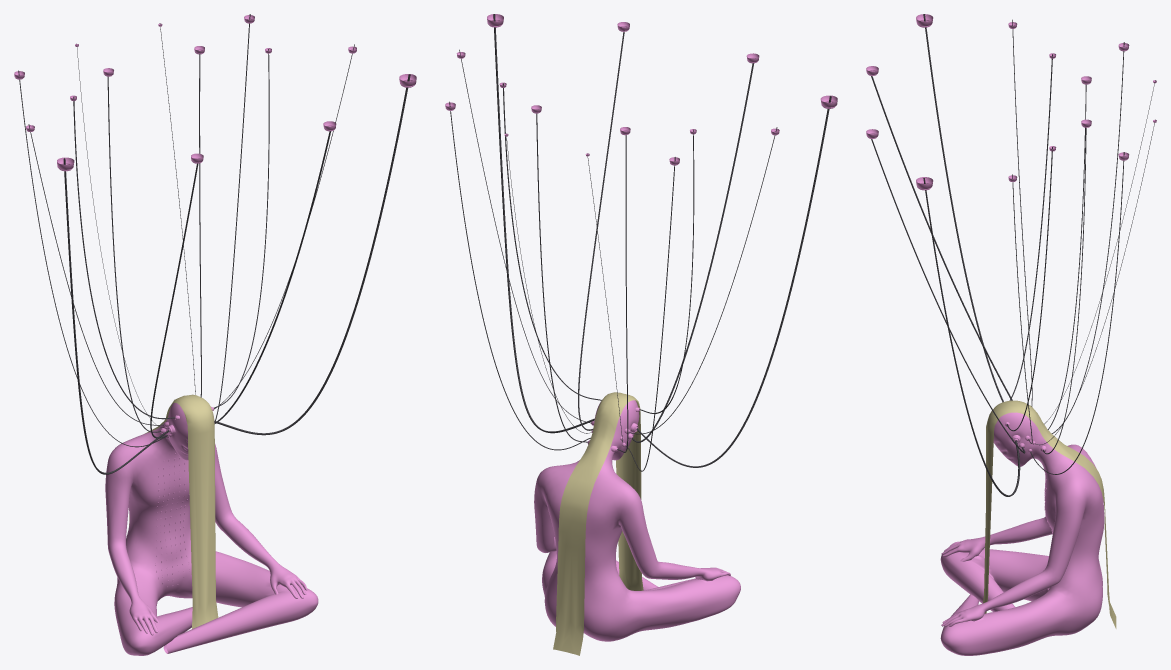
The model's file is statue_full.fbx.
3 renders of one model, left to right at view 1: azimuth 30°, elevation 25°; view 2: azimuth 150°, elevation 25°; view 3: azimuth 270°, elevation 25°, orthographic. The views are drawn at different scales.
Parts seen in each view (by area): view 1: statue_low, veil_low, wire2_high, wire3_high, wire1_high, wire4_high, wire7_high, wire5_high, wire6_high, hubs_low; view 2: statue_low, veil_low, wire2_high, wire3_high, wire4_high, wire7_high, wire1_high, wire5_high, wire6_high; view 3: statue_low, veil_low, wire2_high, wire3_high, wire1_high, wire4_high, wire7_high, wire5_high, wire6_high.
Part boxes in pixels (left/top/right/bottom): statue_low: left=105, top=403, right=318, bottom=655; veil_low: left=129, top=394, right=218, bottom=628; wire2_high: left=63, top=74, right=410, bottom=474; wire3_high: left=150, top=131, right=330, bottom=438; wire1_high: left=73, top=49, right=269, bottom=419; wire4_high: left=18, top=14, right=250, bottom=447; wire7_high: left=107, top=54, right=201, bottom=432; wire5_high: left=28, top=44, right=354, bottom=425; wire6_high: left=76, top=23, right=195, bottom=427; hubs_low: left=155, top=453, right=190, bottom=587; statue_low: left=534, top=400, right=740, bottom=641; veil_low: left=553, top=392, right=643, bottom=655; wire2_high: left=493, top=14, right=831, bottom=467; wire3_high: left=578, top=32, right=753, bottom=442; wire4_high: left=449, top=101, right=675, bottom=471; wire7_high: left=536, top=113, right=628, bottom=452; wire1_high: left=502, top=83, right=694, bottom=413; wire5_high: left=459, top=49, right=777, bottom=434; wire6_high: left=506, top=133, right=622, bottom=442; statue_low: left=940, top=412, right=1104, bottom=655; veil_low: left=983, top=400, right=1116, bottom=628; wire2_high: left=923, top=14, right=1020, bottom=496; wire3_high: left=871, top=76, right=1025, bottom=453; wire1_high: left=1006, top=54, right=1052, bottom=431; wire4_high: left=1030, top=42, right=1124, bottom=474; wire7_high: left=1043, top=84, right=1086, bottom=454; wire5_high: left=1012, top=19, right=1032, bottom=443; wire6_high: left=1035, top=80, right=1155, bottom=445.
Size of the model in its own units: 22158 by 32220 by 16010.
